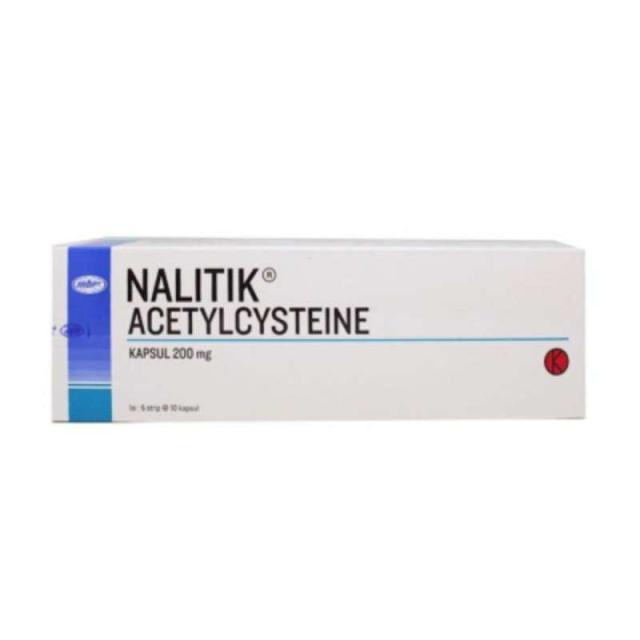drug-name: (124, 264, 262, 303)
